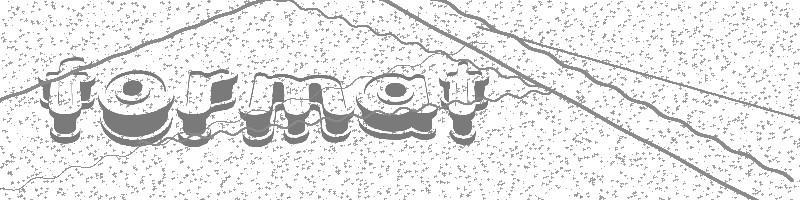a: (357, 72, 438, 142)
f: (38, 56, 97, 144)
m: (238, 71, 355, 149)
o: (96, 68, 174, 147)
r: (176, 68, 237, 149)
t: (438, 59, 490, 145)
